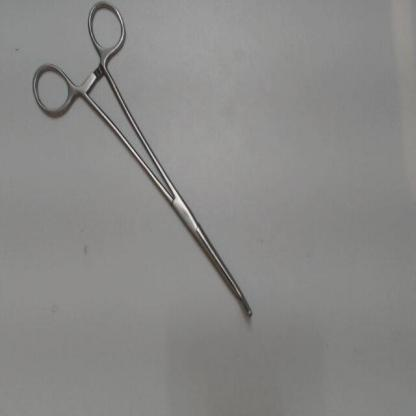Lahey Forceps: (22, 1, 272, 329)
